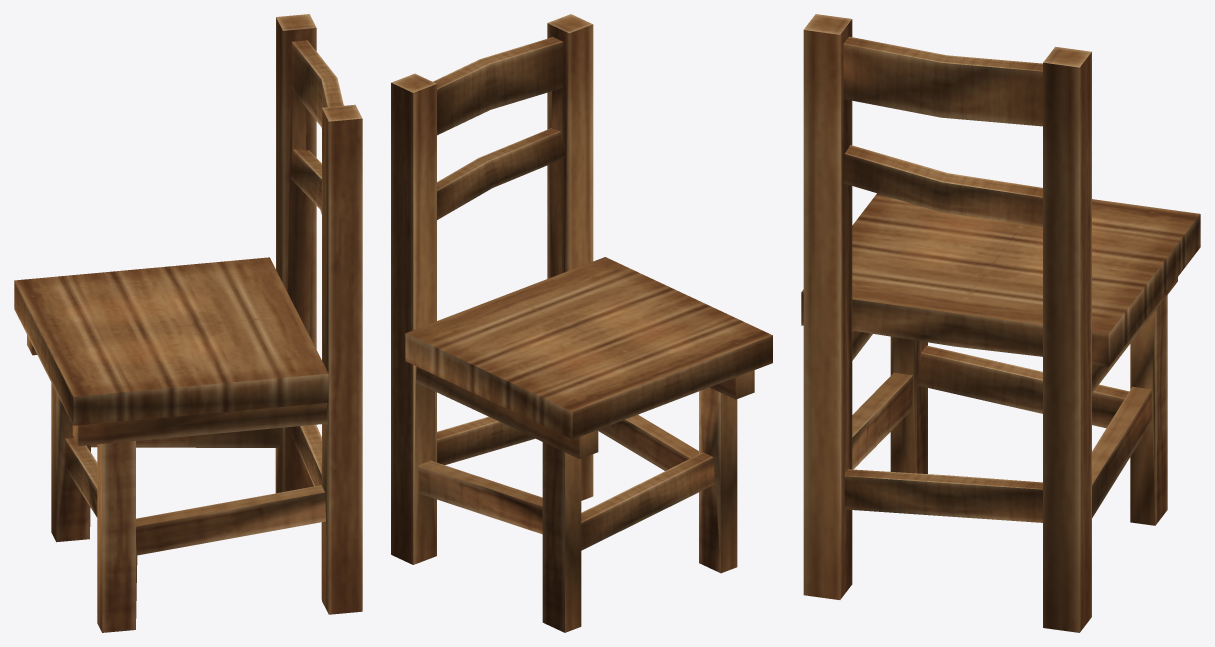
The model's file is c_SWGchair04b05.glb.
The picture shows the model from 3 angles, left to right: view 1: azimuth 30°, elevation 25°; view 2: azimuth 150°, elevation 25°; view 3: azimuth 270°, elevation 25°; orthographic projection. The views are drawn at different scales.
Visible parts, largest first — view 1: c_SWGchair04b05; view 2: c_SWGchair04b05; view 3: c_SWGchair04b05.
Boxes of the visible parts, bbox=[...] form: c_SWGchair04b05: bbox=[14, 14, 362, 632]; c_SWGchair04b05: bbox=[391, 14, 772, 632]; c_SWGchair04b05: bbox=[801, 14, 1200, 632].
Size of the model in its own units: 0.6643 by 0.9859 by 0.6312.
Materials: 1 (1 with a texture image).
